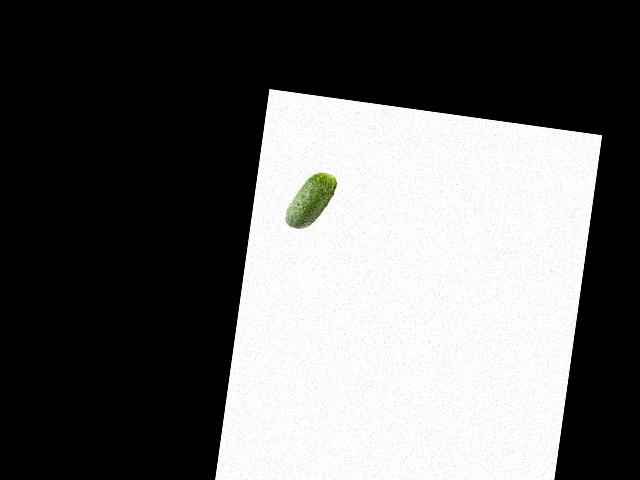cucumber: (284, 168, 337, 233)
